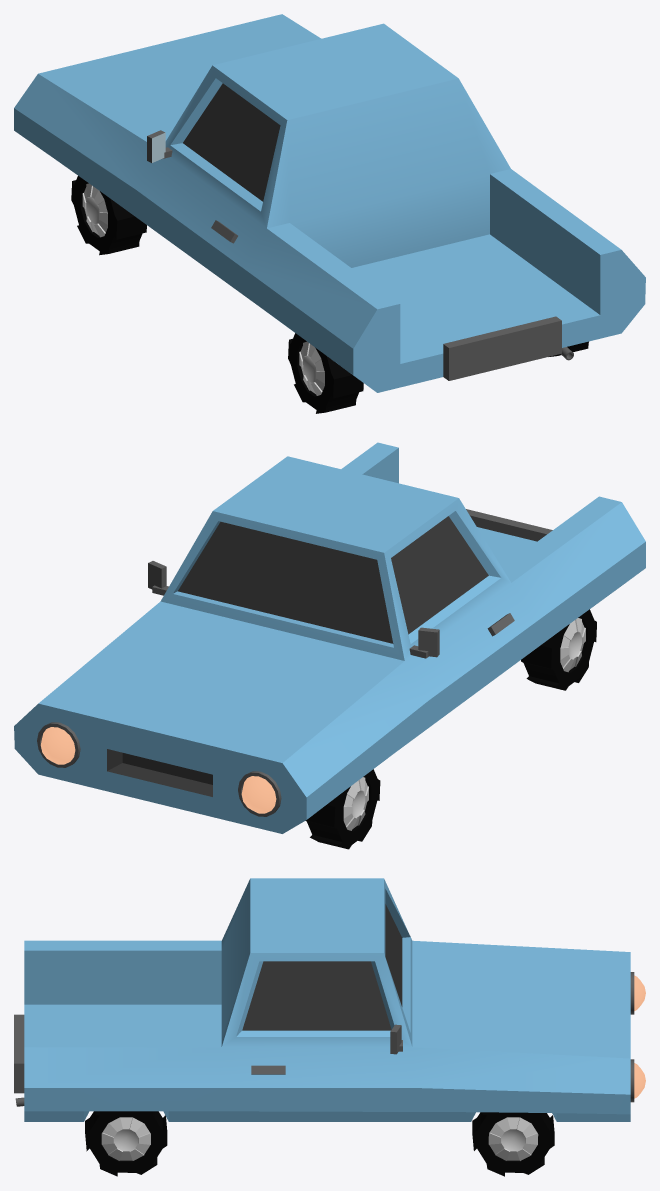
File: Car_Basic_3.glb
3 renders of one model, top to bottom at view 1: azimuth 30°, elevation 25°; view 2: azimuth 150°, elevation 25°; view 3: azimuth 270°, elevation 25°, orthographic. The views are drawn at different scales.
Visible parts, largest first — view 1: Cube.5502, Cube.5509, Cylinder.4453, Cylinder.4456, Cylinder.4454, Cylinder.4457; view 2: Cube.5502, Cylinder.4453, Cylinder.4456, Cube.5509, Sphere.404, Sphere.406, Cylinder.4454, Cylinder.4457, Sphere.407, Sphere.405; view 3: Cube.5502, Cylinder.4458, Cylinder.4460, Cylinder.4459, Cylinder.4461, Cube.5509.
Part boxes in pixels (x1=…): Cube.5502: x1=14, y1=14, x2=645, y2=392; Cube.5509: x1=443, y1=316, x2=561, y2=380; Cylinder.4453: x1=288, y1=333, x2=363, y2=413; Cylinder.4456: x1=71, y1=176, x2=146, y2=255; Cylinder.4454: x1=299, y1=341, x2=324, y2=395; Cylinder.4457: x1=82, y1=183, x2=107, y2=237; Cube.5502: x1=14, y1=442, x2=645, y2=833; Cylinder.4453: x1=521, y1=609, x2=596, y2=690; Cylinder.4456: x1=305, y1=769, x2=380, y2=849; Cube.5509: x1=466, y1=509, x2=552, y2=541; Sphere.404: x1=241, y1=776, x2=276, y2=813; Sphere.406: x1=40, y1=727, x2=75, y2=764; Cylinder.4454: x1=560, y1=618, x2=585, y2=672; Cylinder.4457: x1=343, y1=777, x2=368, y2=830; Sphere.407: x1=37, y1=722, x2=80, y2=767; Sphere.405: x1=238, y1=771, x2=281, y2=816; Cube.5502: x1=24, y1=878, x2=630, y2=1121; Cylinder.4458: x1=85, y1=1111, x2=167, y2=1176; Cylinder.4460: x1=472, y1=1112, x2=554, y2=1176; Cylinder.4459: x1=101, y1=1117, x2=150, y2=1160; Cylinder.4461: x1=488, y1=1117, x2=538, y2=1160; Cube.5509: x1=14, y1=1014, x2=24, y2=1093.
Size of the model in its own units: 2.08 by 1.55 by 4.35.
